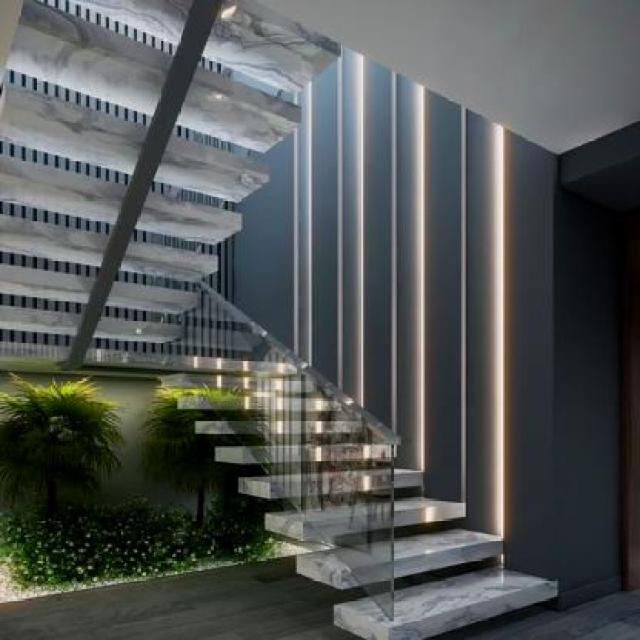stair: (163, 280, 546, 638)
